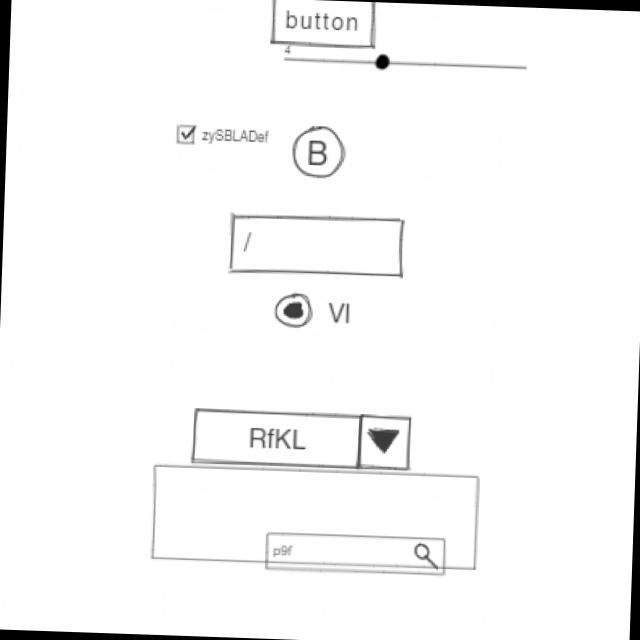button: (268, 1, 378, 51)
checkbox: (174, 122, 272, 150)
container: (149, 464, 483, 575)
icon-button: (291, 124, 349, 182)
input: (226, 210, 409, 283)
radio: (273, 291, 356, 333)
search: (265, 530, 450, 581)
select: (191, 404, 416, 474)
slider: (291, 51, 530, 76)
